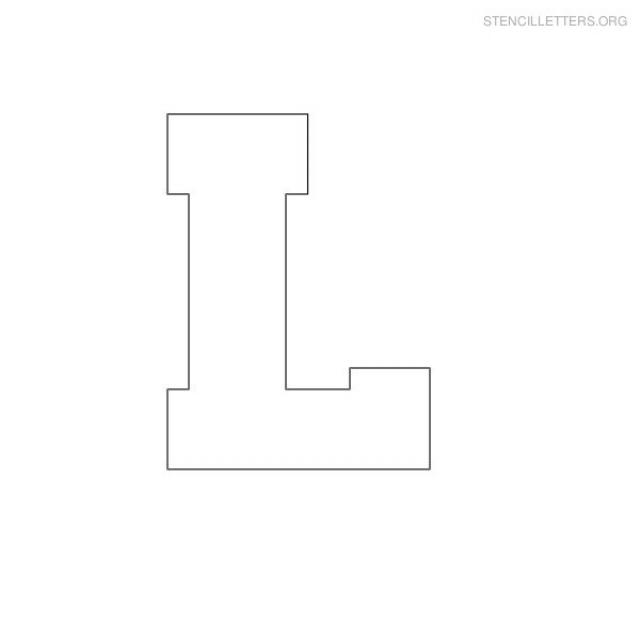L: (109, 58, 482, 494)
